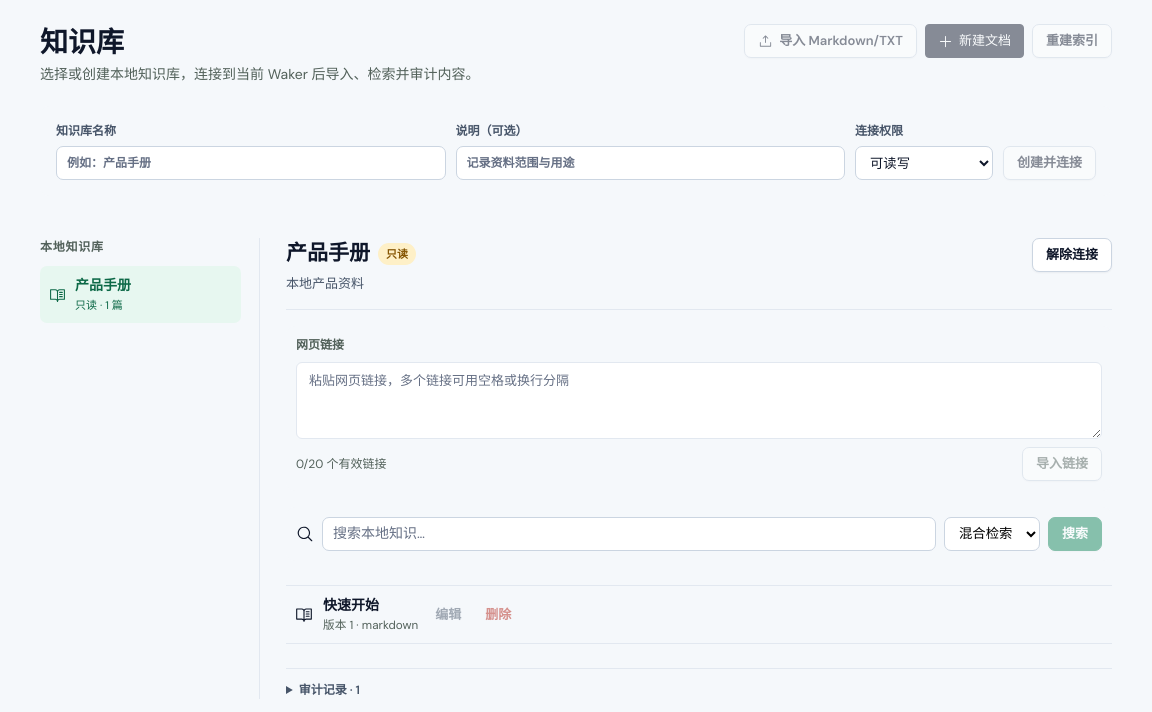
Test: KnowledgeManagementView › 只读绑定显示真实状态，并禁用写操作但保留审计查看
The width and height of the screenshot is (1152, 712).
Expected: the text "快速开始" is shown, top-left (323, 596), bottom-right (379, 614)
What coordinates should you click on to do the following:
click the heading "审计记录 · 1"
I would click on:
 (329, 690)
Its box is top-left (299, 682), bottom-right (360, 698).
(page scrolled)
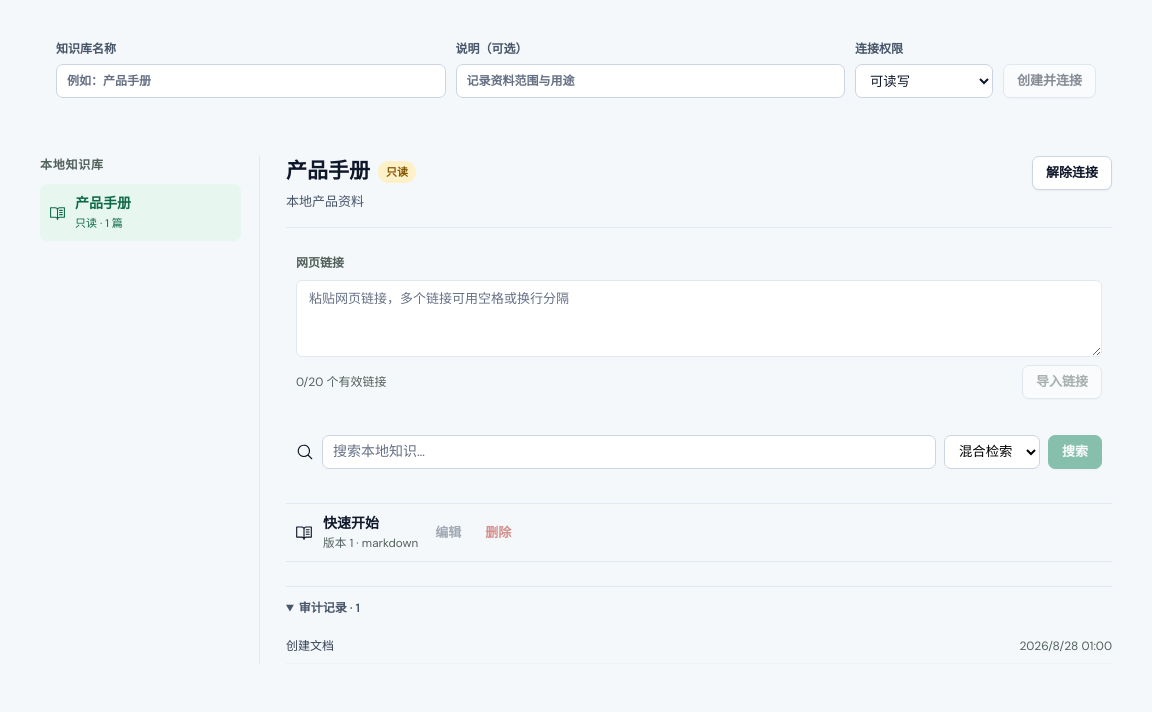
Expected: the text "创建文档" is shown, top-left (286, 637), bottom-right (334, 655)
